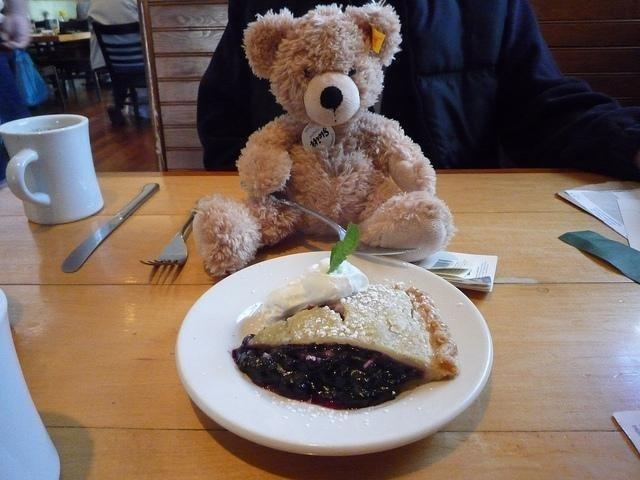cup-handle: (1, 112, 104, 224)
